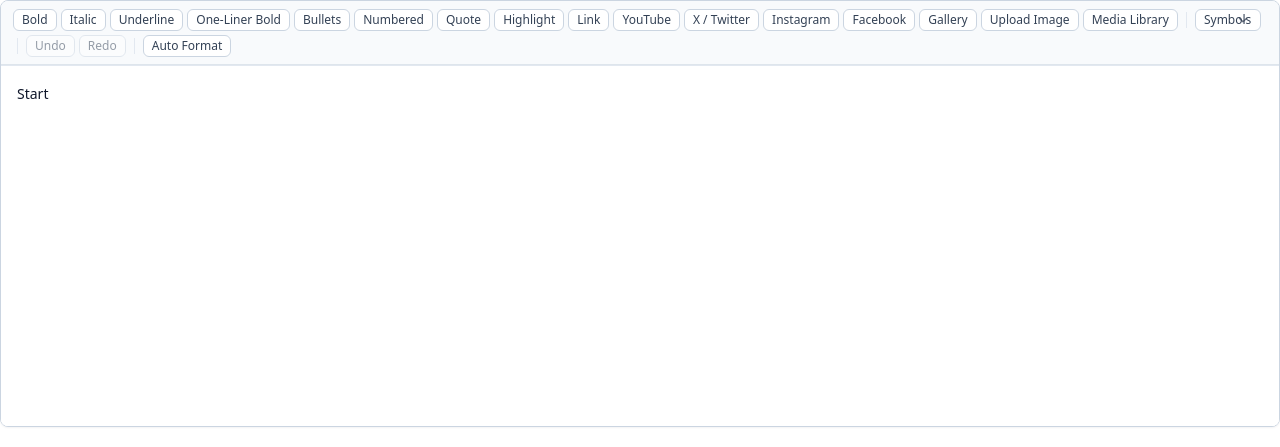
it: RichTextEditor controlled Facebook authoring › inserts a controlled node from a /posts/ URL toolbar action
Click the button "Facebook": (879,20) [843,9,915,31]
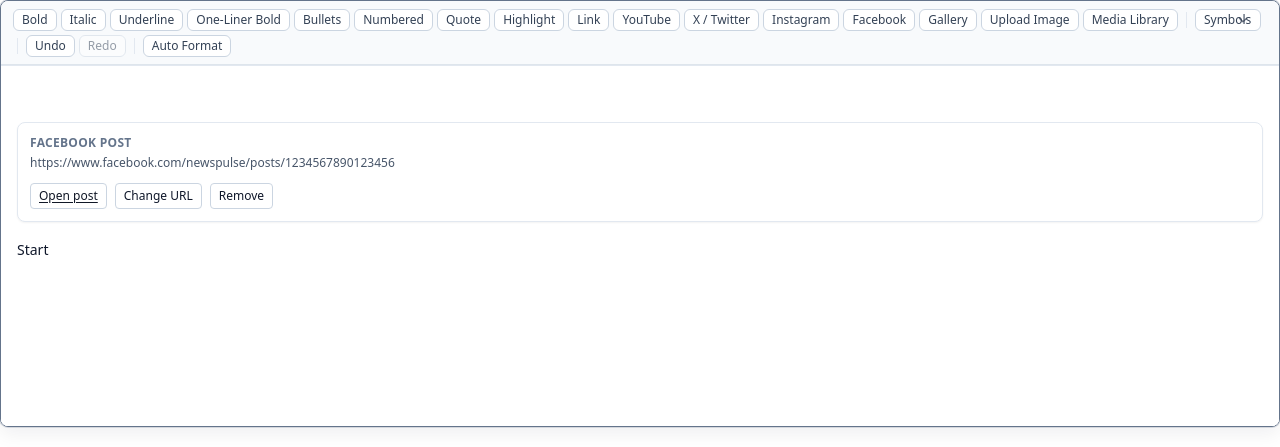
Expected: the text "Facebook Post" is shown, [30,134,132,151]
Expected: the button "Change URL" is shown, [115,183,202,209]
